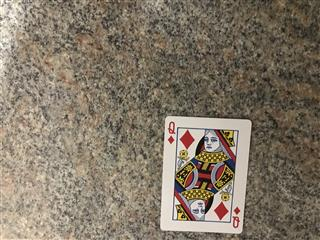QueenOfDiamonds: (159, 114, 252, 235)
